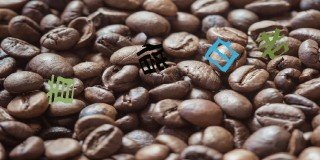偕: (136, 42, 169, 73)
白: (205, 37, 240, 72)
老: (256, 27, 289, 60)
首: (45, 73, 75, 105)
